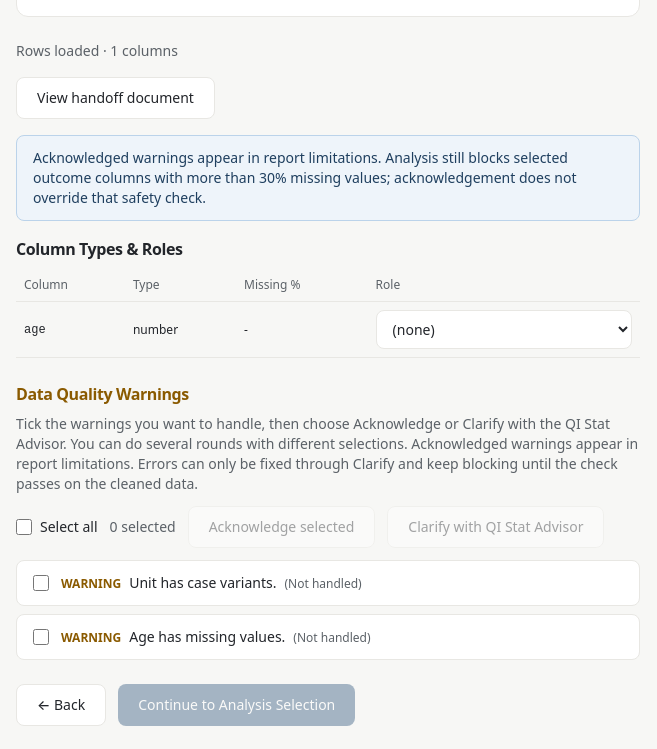
DataReview › confirm sends the proposal_id and refetches flag states
(page scrolled)
Click the checkbox labelled "Unit has case variants": [41, 583] box [33,575,49,591]
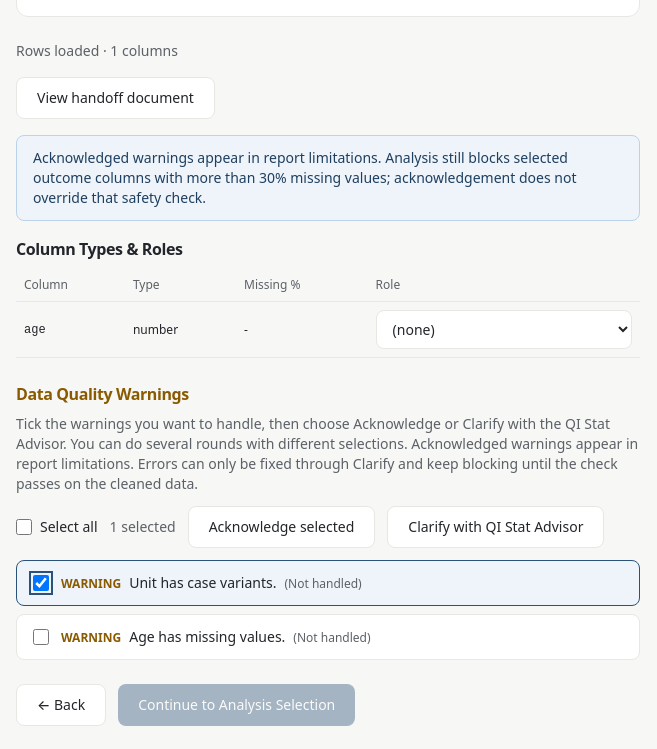
Click the button "Clarify with QI Stat Advisor": [496, 527] box [387,506,604,548]
(page scrolled)
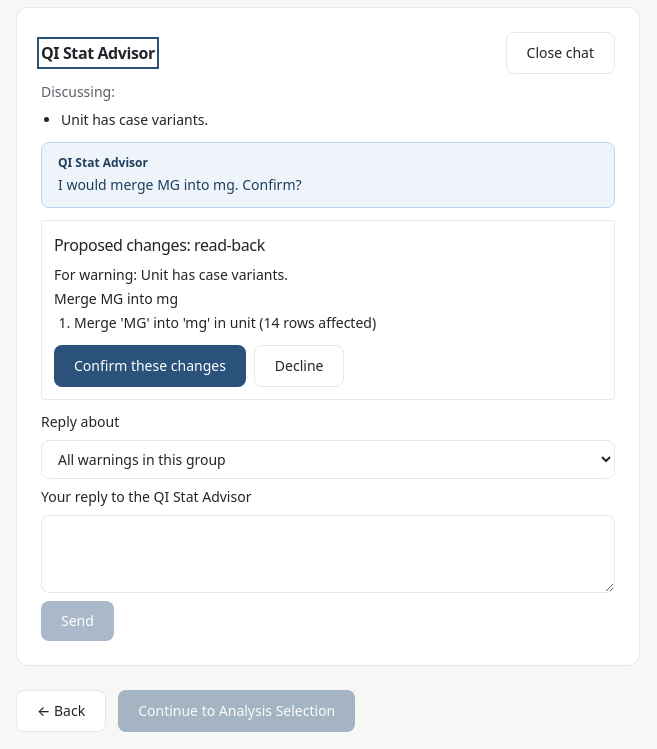
Now the button "Confirm these changes" is shown
Click the button "Confirm these changes": [150, 366] box [54,345,246,387]
(page scrolled)
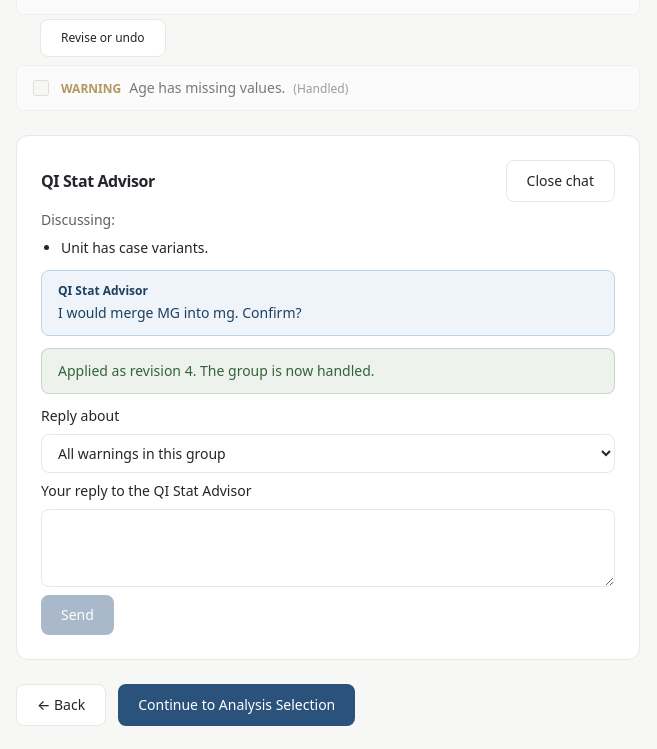
Now the text "Applied as revision 4. The group is now handled." is shown, box [41,348,615,394]
Now the button "Continue to Analysis Selection" is enabled, box [118,684,355,726]
